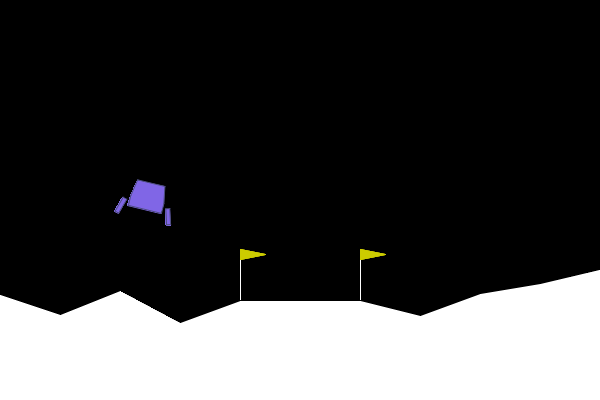lander: (113, 174, 180, 227)
